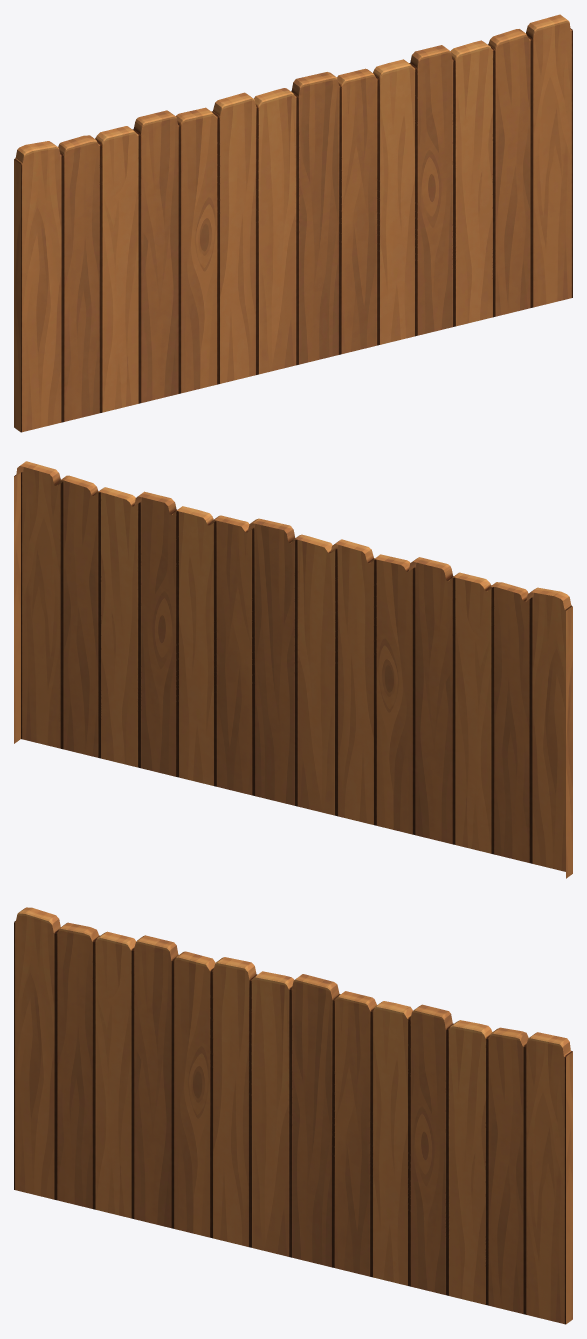
Rendered from Fence_Wood_03_OpenShell.fbx.
3 renders of one model, top to bottom at view 1: azimuth 30°, elevation 25°; view 2: azimuth 150°, elevation 25°; view 3: azimuth 330°, elevation 25°, orthographic.
Parts seen in each view (by area): view 1: Fence_Wood_03_OpenShell_Mesh; view 2: Fence_Wood_03_OpenShell_Mesh; view 3: Fence_Wood_03_OpenShell_Mesh.
Part boxes in pixels (left/top/right/bottom): Fence_Wood_03_OpenShell_Mesh: left=14, top=14, right=572, bottom=432; Fence_Wood_03_OpenShell_Mesh: left=14, top=461, right=572, bottom=878; Fence_Wood_03_OpenShell_Mesh: left=14, top=907, right=572, bottom=1324.
Bounding box in the file's own units: 3.2 × 1.55 × 0.07.
